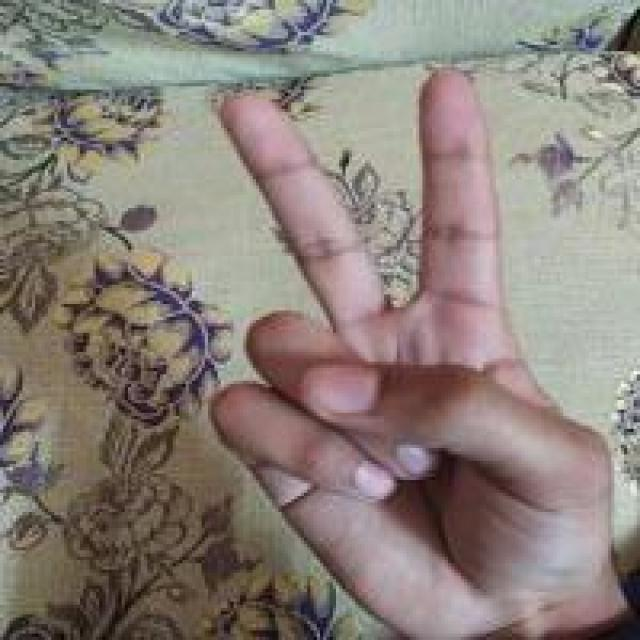V: (194, 67, 619, 624)
